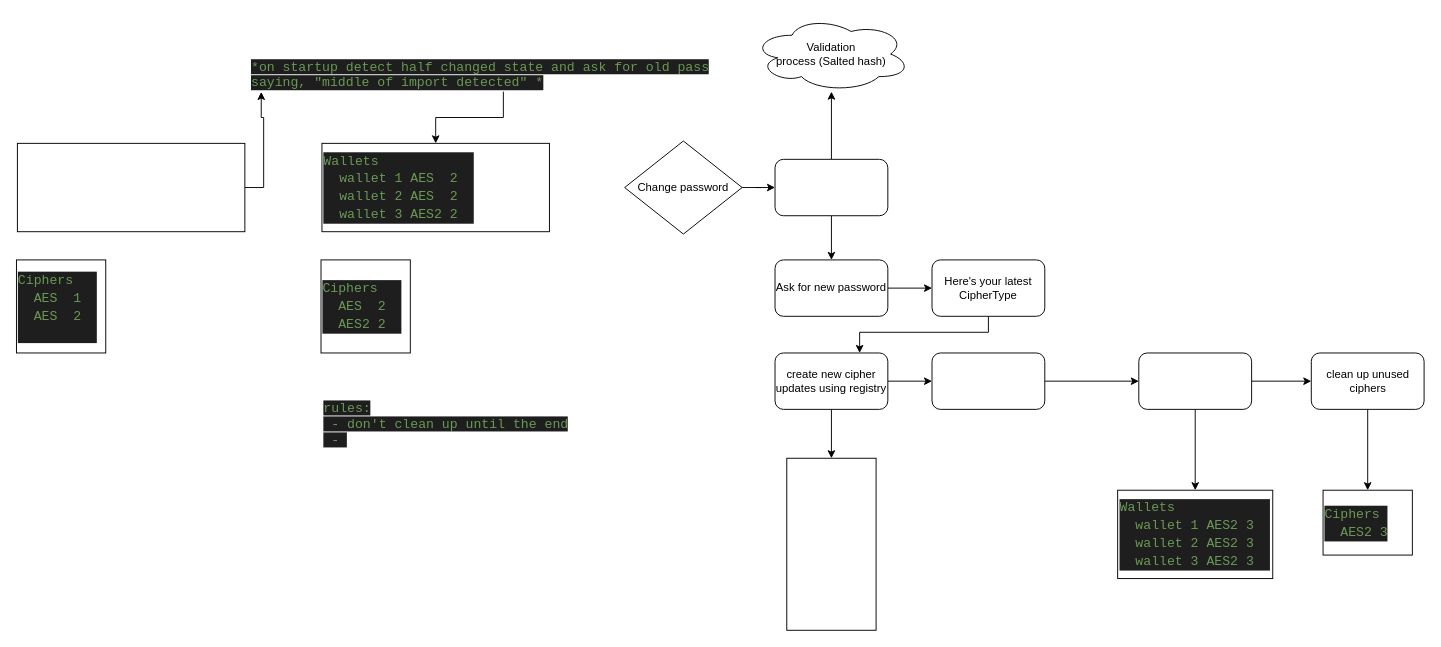
Some shapes in this 1441 by 647 pixel diagram are drawn without their labels. Here are the shapes that lost their labels. From the top down, the centre of each, then its label:
At pixel 130 187: "Wallets wallet 1 AES 1 ** wallet 2 AES 2 wallet 3 AES 2".
At pixel 831 187: "Validate existing password".
At pixel 988 380: "decrypt wallets".
At pixel 1195 380: "encrypt wallets with highest number for Latest CipherType".
At pixel 831 543: "Ciphers AES 1 AES 2 AES2 2 AES2 3".
